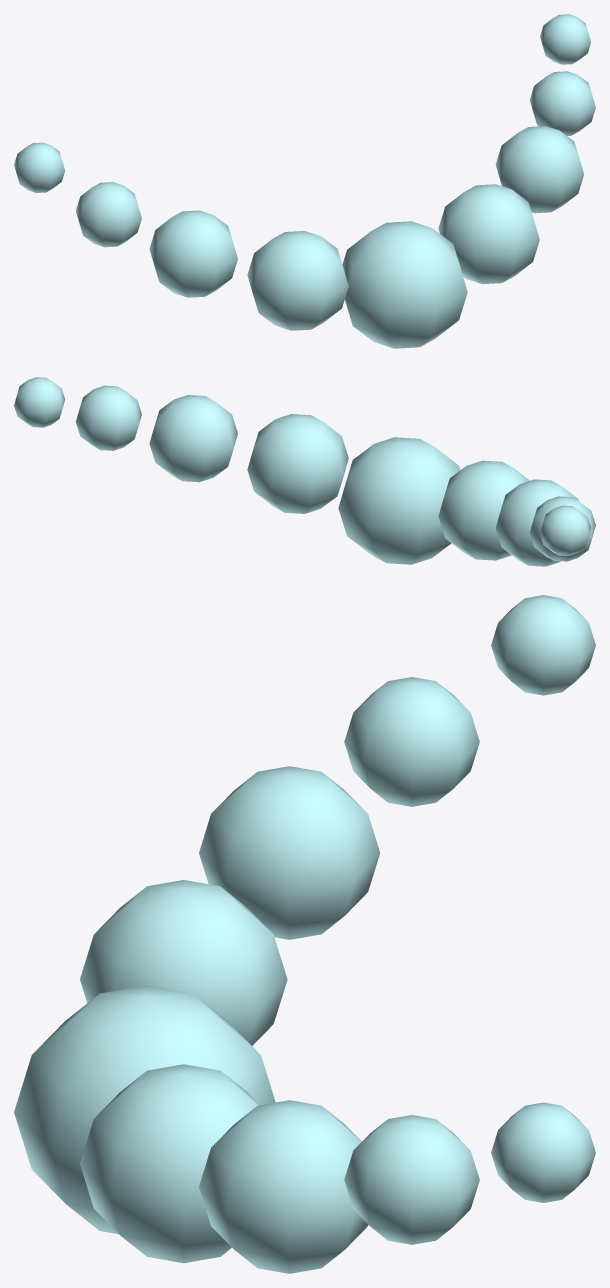
File: necklace2_2.fbx
3 views of the same model, one above another, from view 1: azimuth 30°, elevation 25°; view 2: azimuth 150°, elevation 25°; view 3: azimuth 270°, elevation 25° (orthographic). The views are drawn at different scales.
Visible parts, largest first — view 1: necklace2_2; view 2: necklace2_2; view 3: necklace2_2.
Boxes of the visible parts, x1,y1,x2,y2 form: necklace2_2: [14, 14, 595, 348]; necklace2_2: [14, 377, 595, 566]; necklace2_2: [14, 595, 595, 1273].
Size of the model in its own units: 51.41 by 16.19 by 22.91.
Materials: 1 (1 with a texture image).
